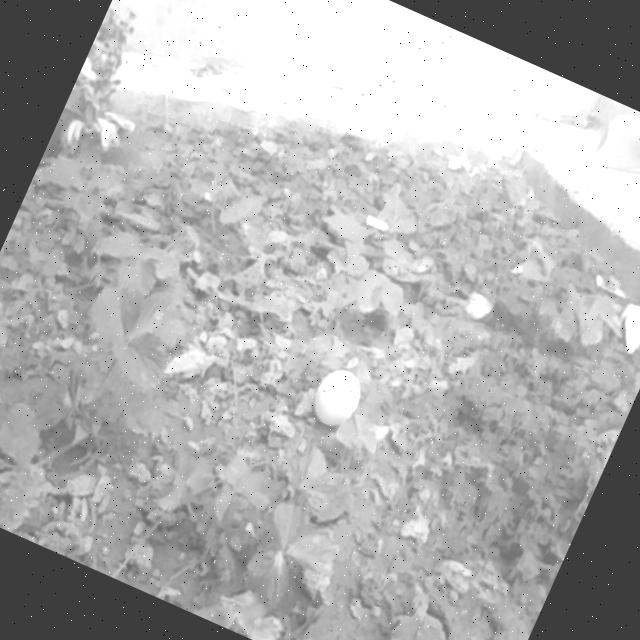ping-pong-ball: (306, 368, 366, 433)
